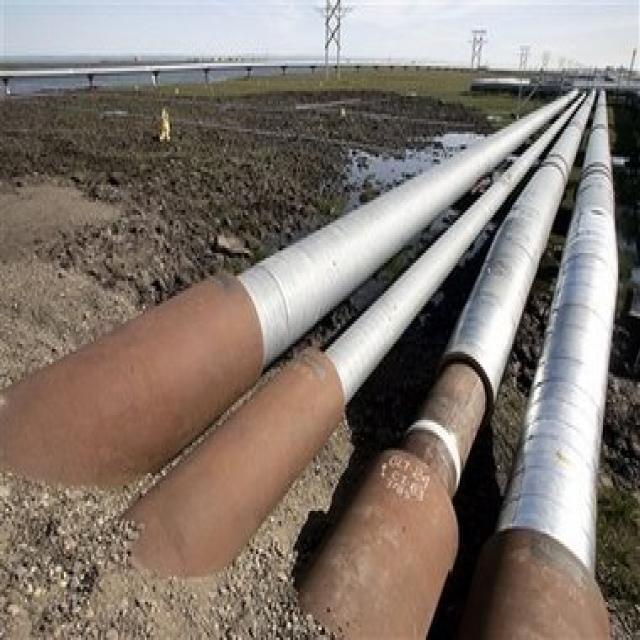gas: (459, 91, 618, 640), (239, 99, 565, 366), (326, 124, 559, 402), (442, 92, 594, 404)
